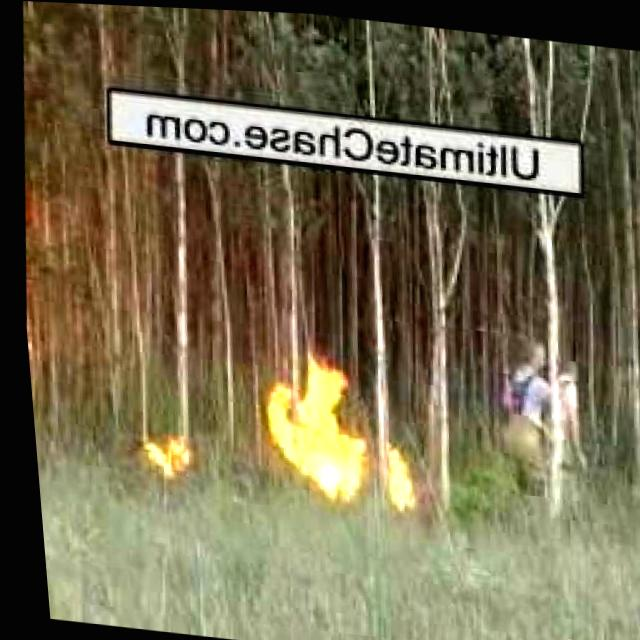Fire: (250, 358, 365, 494), (130, 424, 187, 483), (374, 434, 408, 512)
